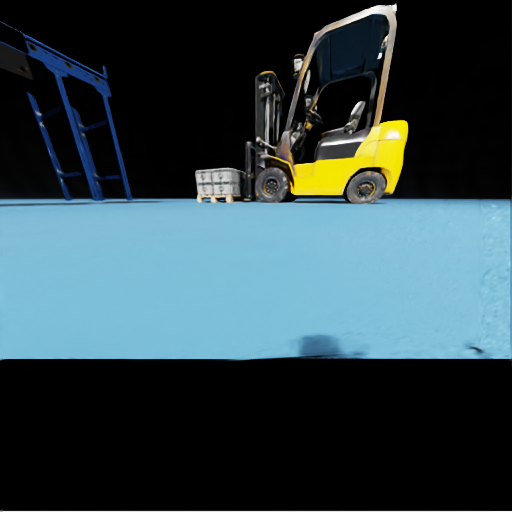transportation_area: (213, 182, 244, 194)
